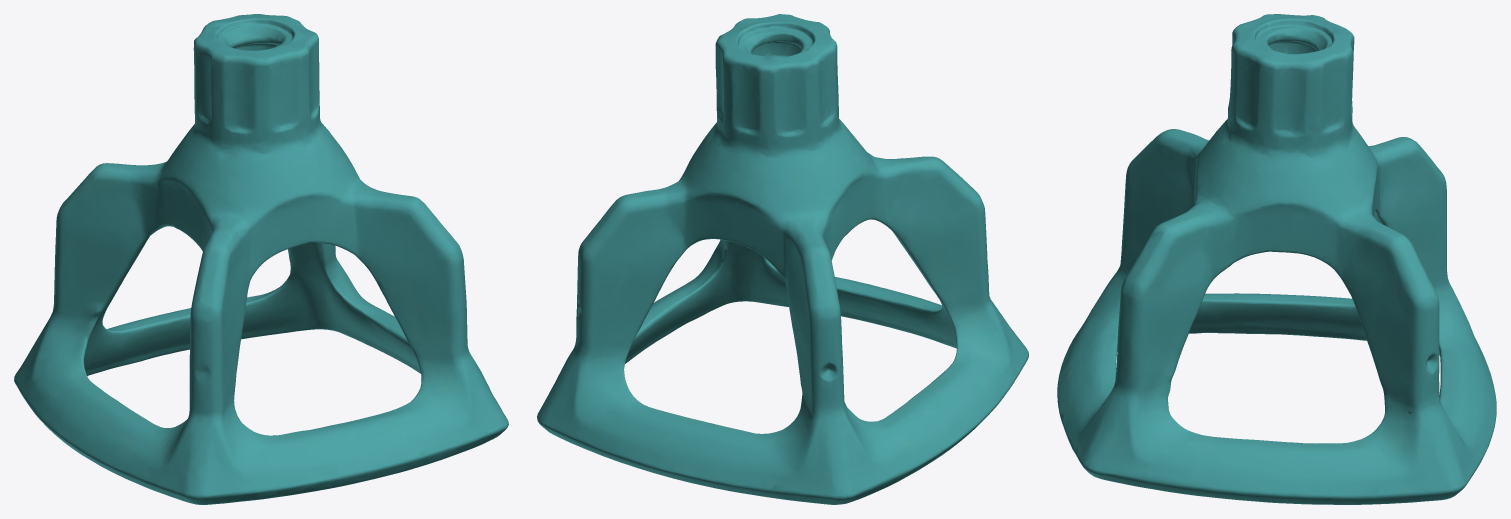
The model's file is levelling-window-cap.glb.
The picture shows the model from 3 angles, left to right: view 1: azimuth 30°, elevation 25°; view 2: azimuth 150°, elevation 25°; view 3: azimuth 270°, elevation 25°; orthographic projection. The views are drawn at different scales.
Visible parts, largest first — view 1: tripo_node_a9a2a1a7-d088-4828-9827-0d2caa8a0a07; view 2: tripo_node_a9a2a1a7-d088-4828-9827-0d2caa8a0a07; view 3: tripo_node_a9a2a1a7-d088-4828-9827-0d2caa8a0a07.
Part boxes in pixels (left/top/right/bottom): tripo_node_a9a2a1a7-d088-4828-9827-0d2caa8a0a07: left=14, top=14, right=508, bottom=504; tripo_node_a9a2a1a7-d088-4828-9827-0d2caa8a0a07: left=537, top=14, right=1028, bottom=504; tripo_node_a9a2a1a7-d088-4828-9827-0d2caa8a0a07: left=1057, top=14, right=1496, bottom=504.
Size of the model in its own units: 0.9982 by 0.9731 by 1.
1 material, 1 textured.
